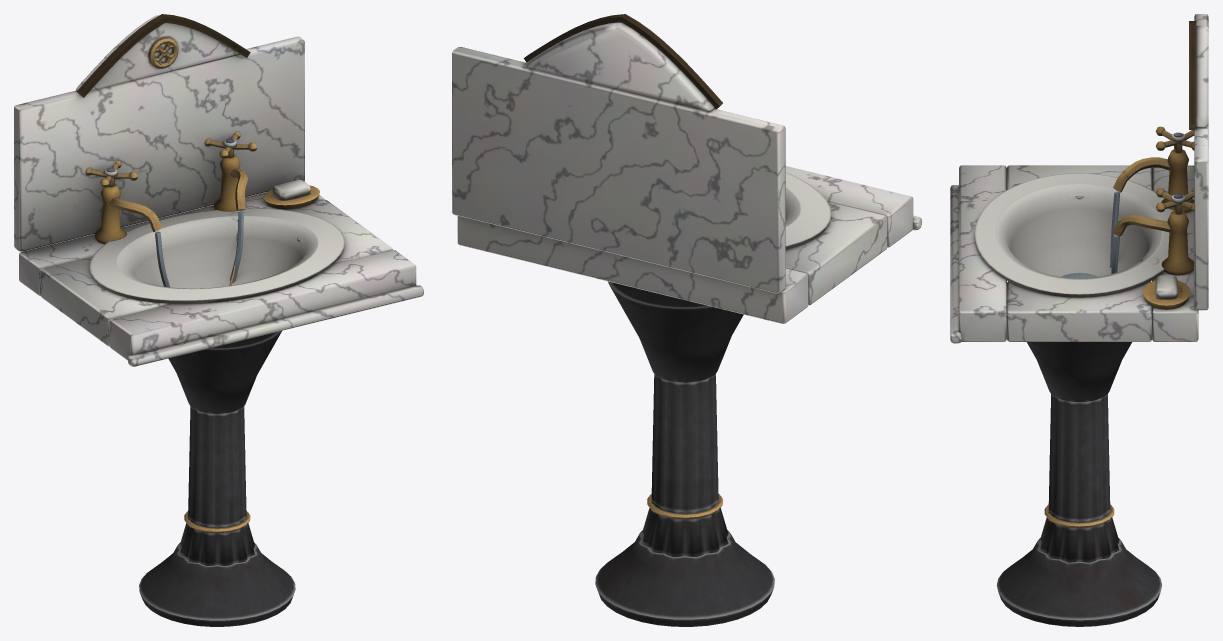
File: Sink.fbx
3 views of the same model, side by side, from view 1: azimuth 30°, elevation 25°; view 2: azimuth 150°, elevation 25°; view 3: azimuth 270°, elevation 25° (orthographic). The views are drawn at different scales.
Visible parts, largest first — view 1: Sink_Main, Sink_Water, Sink_TapCold, Sink_TapHot; view 2: Sink_Main; view 3: Sink_Main, Sink_Water, Sink_TapCold, Sink_TapHot.
Part boxes in pixels (x1=…): Sink_Main: x1=14, y1=14, x2=423, y2=626; Sink_Water: x1=155, y1=211, x2=243, y2=287; Sink_TapCold: x1=204, y1=131, x2=257, y2=158; Sink_TapHot: x1=85, y1=160, x2=137, y2=187; Sink_Main: x1=452, y1=14, x2=921, y2=626; Sink_Main: x1=950, y1=14, x2=1208, y2=626; Sink_Water: x1=1061, y1=191, x2=1120, y2=278; Sink_TapCold: x1=1155, y1=188, x2=1194, y2=214; Sink_TapHot: x1=1155, y1=126, x2=1194, y2=152.
Size of the model in its own units: 246 by 433 by 178.
